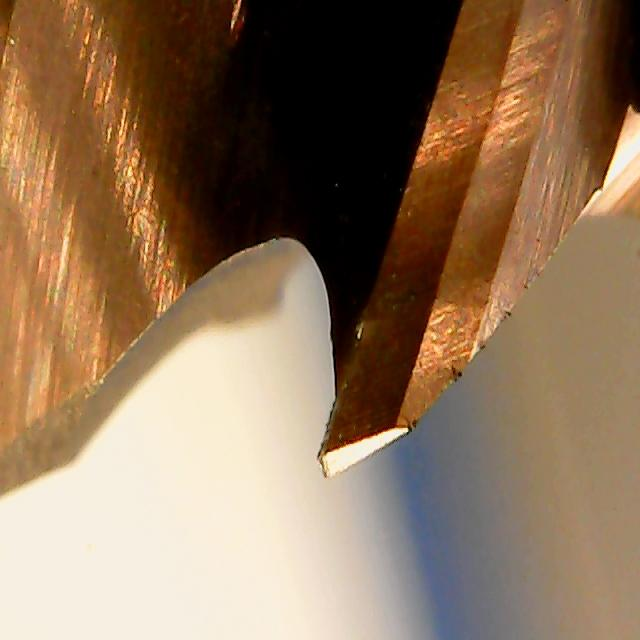Tool-wear-class-1: (312, 276, 482, 490)
